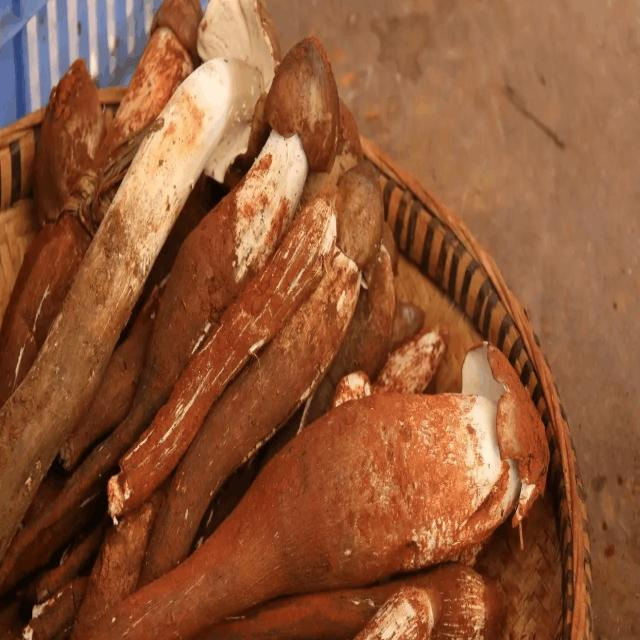Collybia albuminosa: (283, 342, 550, 581), (153, 0, 278, 190), (239, 36, 339, 236), (34, 59, 120, 221), (310, 167, 386, 342), (120, 0, 204, 127)
